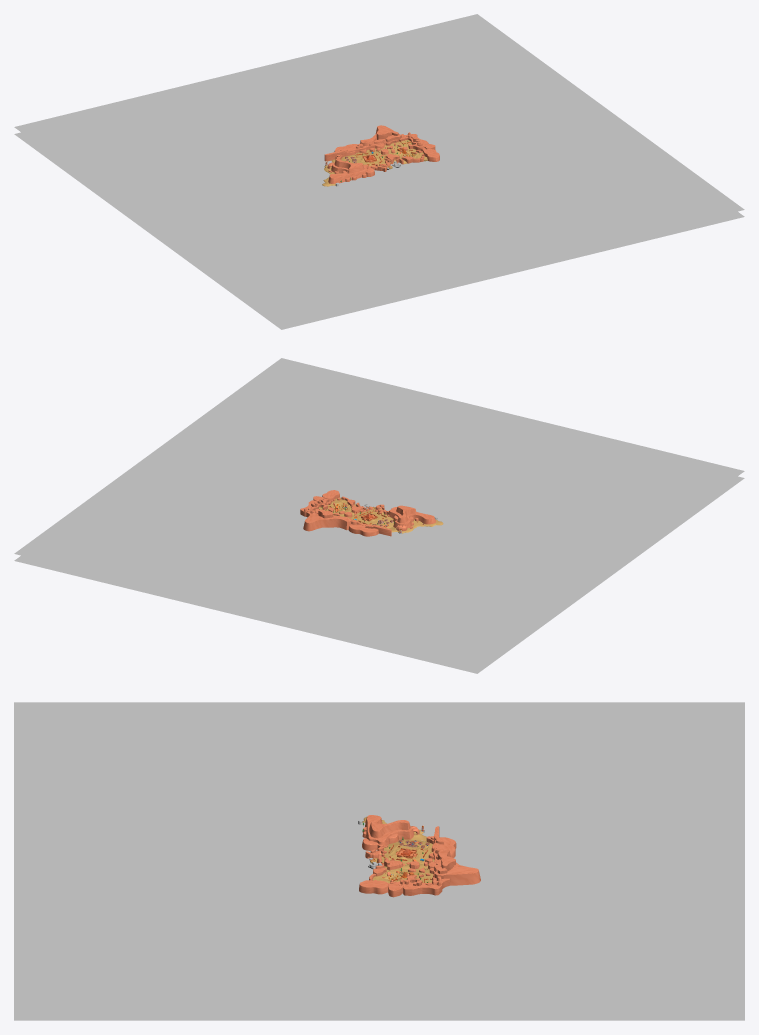
The model's file is Desert island.fbx.
The picture shows the model from 3 angles, top to bottom: view 1: azimuth 30°, elevation 25°; view 2: azimuth 150°, elevation 25°; view 3: azimuth 270°, elevation 25°; orthographic projection. The views are drawn at different scales.
Visible parts, largest first — view 1: pPlane1, pPlane2, polySurface1312; view 2: pPlane1, pPlane2, polySurface1312; view 3: pPlane1, pPlane2, polySurface1312.
Part boxes in pixels (left/top/right/bottom): pPlane1: left=14, top=14, right=744, bottom=322; pPlane2: left=14, top=132, right=744, bottom=329; polySurface1312: left=322, top=125, right=439, bottom=186; pPlane1: left=14, top=358, right=744, bottom=666; pPlane2: left=14, top=476, right=744, bottom=673; polySurface1312: left=300, top=490, right=443, bottom=536; pPlane1: left=14, top=702, right=744, bottom=1010; pPlane2: left=14, top=1011, right=744, bottom=1020; polySurface1312: left=358, top=815, right=480, bottom=897.
Bounding box in the file's own units: 651 × 24.4 × 651.
